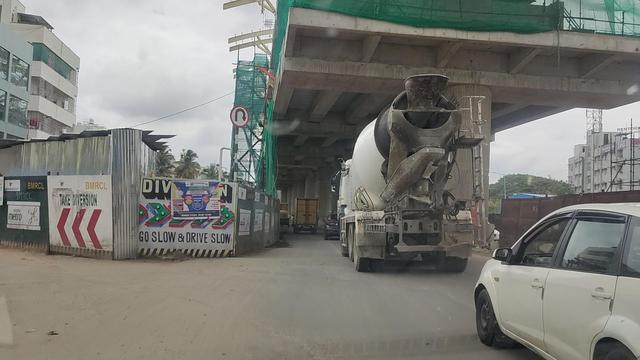HMV: (341, 82, 470, 265), (295, 196, 319, 231)
RoadDamages: (272, 316, 342, 360)
UnsurfacedRoad: (215, 253, 351, 269)
